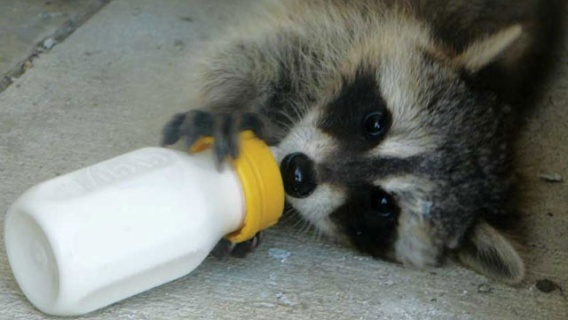Raccoon: (143, 0, 557, 293)
